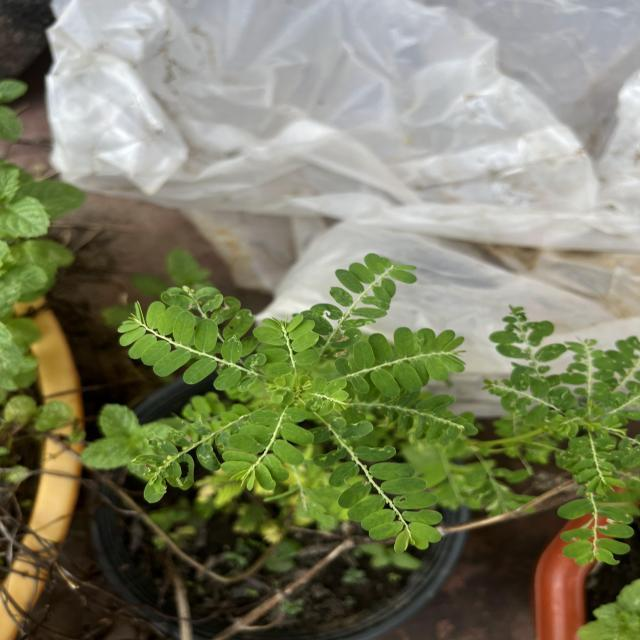Phyllanthus niruri: (306, 411, 446, 554), (112, 298, 266, 392), (302, 248, 418, 348), (333, 326, 470, 398), (218, 400, 314, 492), (255, 313, 319, 382)
